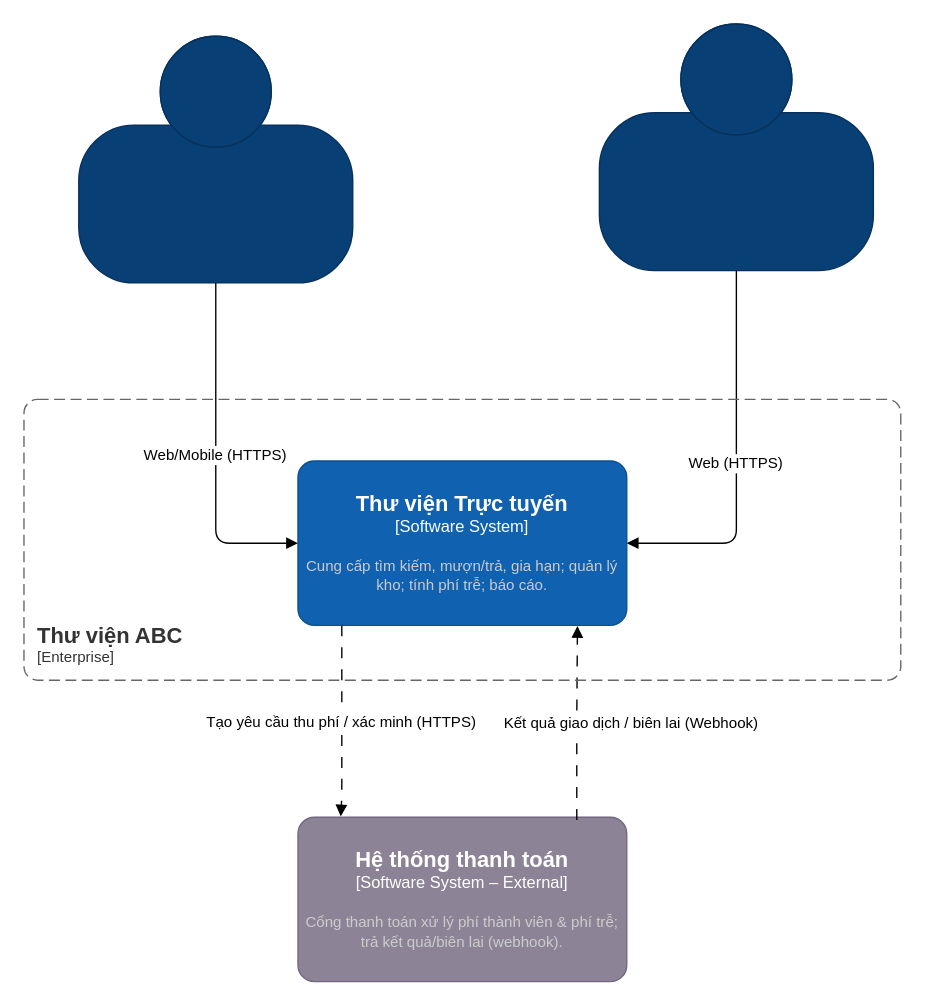
Image size: 925x1006. Some labels were removed from this diagram. Each missing label, with the box of its shape:
Người đọc [Person] Tìm kiếm sách, mượn/gia hạn online, xem lịch sử mượn.: (77, 35, 353, 283)
Thủ thư [Person] Quản lý kho sách, phê duyệt mượn/trả, theo dõi phí trễ hạn.: (598, 23, 873, 271)
